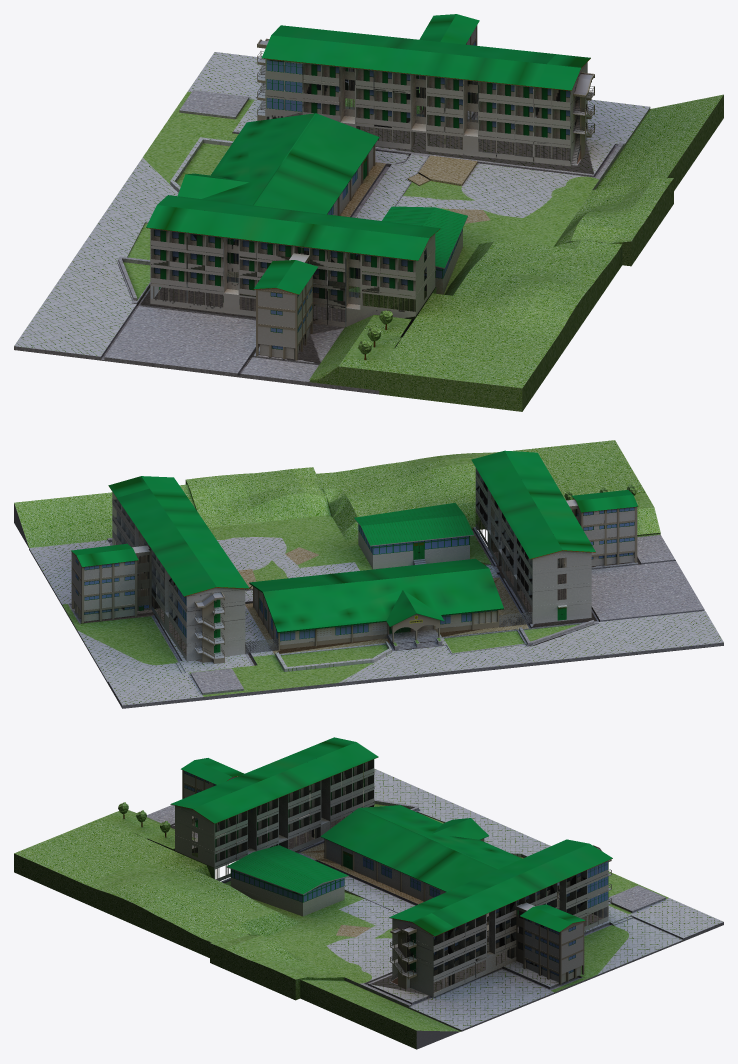
The model's file is chambers_of_mines.gltf.
3 views of the same model, one above another, from view 1: azimuth 30°, elevation 25°; view 2: azimuth 150°, elevation 25°; view 3: azimuth 270°, elevation 25° (orthographic). The views are drawn at different scales.
Visible parts, largest first — view 1: _3DGeom-31, _3DGeom-8, _3DGeom-1, _3DGeom-19, _3DGeom-15, _3DGeom-20, _3DGeom-13, _3DGeom-4, _3DGeom-2, _3DGeom-21, _3DGeom-5, _3DGeom-28 (+2 smaller); view 2: _3DGeom-8, _3DGeom-31, _3DGeom-19, _3DGeom-1, _3DGeom-20, _3DGeom-15, _3DGeom-2, _3DGeom-28, _3DGeom-4, _3DGeom-21, _3DGeom-3, _3DGeom-27 (+5 smaller); view 3: _3DGeom-31, _3DGeom-8, _3DGeom-1, _3DGeom-19, _3DGeom-20, _3DGeom-15, _3DGeom-28, _3DGeom-4, _3DGeom-2, _3DGeom-21, _3DGeom-3, _3DGeom-5 (+3 smaller).
Boxes of the visible parts, x1,y1,x2,y2 form: _3DGeom-31: (379,94,723,411); _3DGeom-8: (146,14,590,294); _3DGeom-1: (150,27,587,359); _3DGeom-19: (14,52,649,356); _3DGeom-15: (14,90,650,394); _3DGeom-20: (123,87,598,390); _3DGeom-13: (161,64,565,300); _3DGeom-4: (154,42,569,349); _3DGeom-2: (153,25,569,360); _3DGeom-21: (227,155,490,277); _3DGeom-5: (154,41,569,349); _3DGeom-28: (382,206,467,267); _3DGeom-8: (71,450,637,631); _3DGeom-31: (14,440,645,547); _3DGeom-19: (29,537,723,705); _3DGeom-1: (72,468,634,661); _3DGeom-20: (62,484,660,696); _3DGeom-15: (29,527,723,708); _3DGeom-2: (71,498,637,654); _3DGeom-28: (354,502,473,545); _3DGeom-4: (75,507,634,640); _3DGeom-21: (238,547,528,654); _3DGeom-3: (149,509,577,663); _3DGeom-27: (245,612,531,653); _3DGeom-31: (14,818,460,1049); _3DGeom-8: (170,737,612,935); _3DGeom-1: (175,759,608,997); _3DGeom-19: (326,768,723,1029); _3DGeom-20: (100,802,668,992); _3DGeom-15: (147,799,723,1031); _3DGeom-28: (227,845,348,894); _3DGeom-4: (184,771,607,975); _3DGeom-2: (182,770,608,991); _3DGeom-21: (300,843,423,937); _3DGeom-3: (324,839,611,989); _3DGeom-5: (184,763,580,975).
Size of the model in its own units: 3629 by 396 by 3607.
39 materials, 39 textured.
